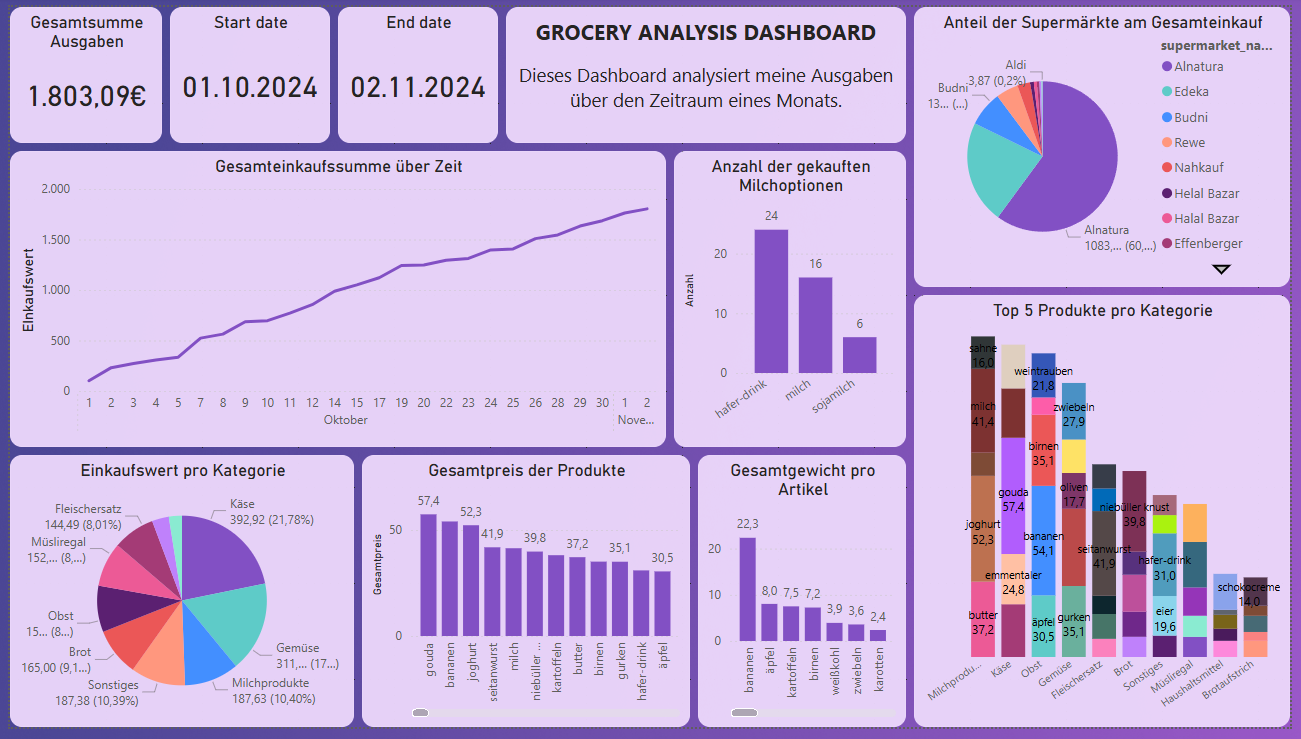

This screenshot's page, from the dashboard's own definition file:
{"tool":"powerbi","page":{"name":"Seite 1","canvas":[1280,720],"ordinal":0},"visuals":[{"type":"pieChart","title":"Einkaufswert pro Kategorie","fields":{"Category":["artikel_export.category"],"Y":["Sum(artikel_export.price)"]},"box":[0,448,344,272],"z":0},{"type":"lineChart","title":"Gesamteinkaufssumme  über Zeit","fields":{"Y":["quittungen_export.KumulativeGesamtsumme"],"Category":["quittungen_export.date.Variation.Datumshierarchie.Monat","quittungen_export.date.Variation.Datumshierarchie.Tag"]},"box":[0,144,656,296],"z":1000},{"type":"columnChart","title":"Top 5 Produkte pro Kategorie","fields":{"Series":["TopProductsPerCategory.product_name"],"Y":["Sum(TopProductsPerCategory.TotalPrice)"],"Category":["TopProductsPerCategory.category"]},"box":[904,288,376,432],"z":2000},{"type":"pieChart","title":"Anteil der Supermärkte am Gesamteinkauf","fields":{"Category":["quittungen_export.supermarket_name"],"Y":["Sum(artikel_export.price)"]},"box":[904,0,376,280],"z":2001},{"type":"clusteredColumnChart","title":"Gesamtgewicht pro Artikel","fields":{"Category":["artikel_export.product_name"],"Y":["Sum(artikel_export.weight)"]},"box":[688,448,208,272],"z":2002},{"type":"clusteredColumnChart","title":"Anzahl der gekauften Milchoptionen","fields":{"Y":["Sum(artikel_export.quantity)"],"Category":["artikel_export.product_name"]},"box":[664,144,232,296],"z":2003},{"type":"clusteredColumnChart","title":"Gesamtpreis der Produkte","fields":{"Category":["artikel_export.product_name"],"Y":["Sum(artikel_export.price)"]},"box":[352,448,328,272],"z":2004},{"type":"card","title":"Gesamtsumme Ausgaben","fields":{"Values":["quittungen_export.KumulativeGesamtsumme"]},"box":[0,0,152,136],"z":2005},{"type":"card","title":"Start date","fields":{"Values":["quittungen_export.StartDatew"]},"box":[160,0,160,136],"z":2006},{"type":"card","title":"End date","fields":{"Values":["quittungen_export.EndDate"]},"box":[328,0,160,136],"z":2007},{"type":"textbox","box":[496,0,400,136],"z":2008}]}

Visuals, with their boxes in screenshot pixels (x1, y1, x2, y2), scaled from the page's 1280x720 canvas onto the 1301x739 screenshot:
"Einkaufswert pro Kategorie" pieChart: [0, 460, 350, 738]
"Gesamteinkaufssumme  über Zeit" lineChart: [0, 148, 667, 452]
"Top 5 Produkte pro Kategorie" columnChart: [919, 296, 1300, 738]
"Anteil der Supermärkte am Gesamteinkauf" pieChart: [919, 0, 1300, 287]
"Gesamtgewicht pro Artikel" clusteredColumnChart: [699, 460, 911, 738]
"Anzahl der gekauften Milchoptionen" clusteredColumnChart: [675, 148, 911, 452]
"Gesamtpreis der Produkte" clusteredColumnChart: [358, 460, 691, 738]
"Gesamtsumme Ausgaben" card: [0, 0, 154, 140]
"Start date" card: [163, 0, 325, 140]
"End date" card: [333, 0, 496, 140]
textbox: [504, 0, 911, 140]
